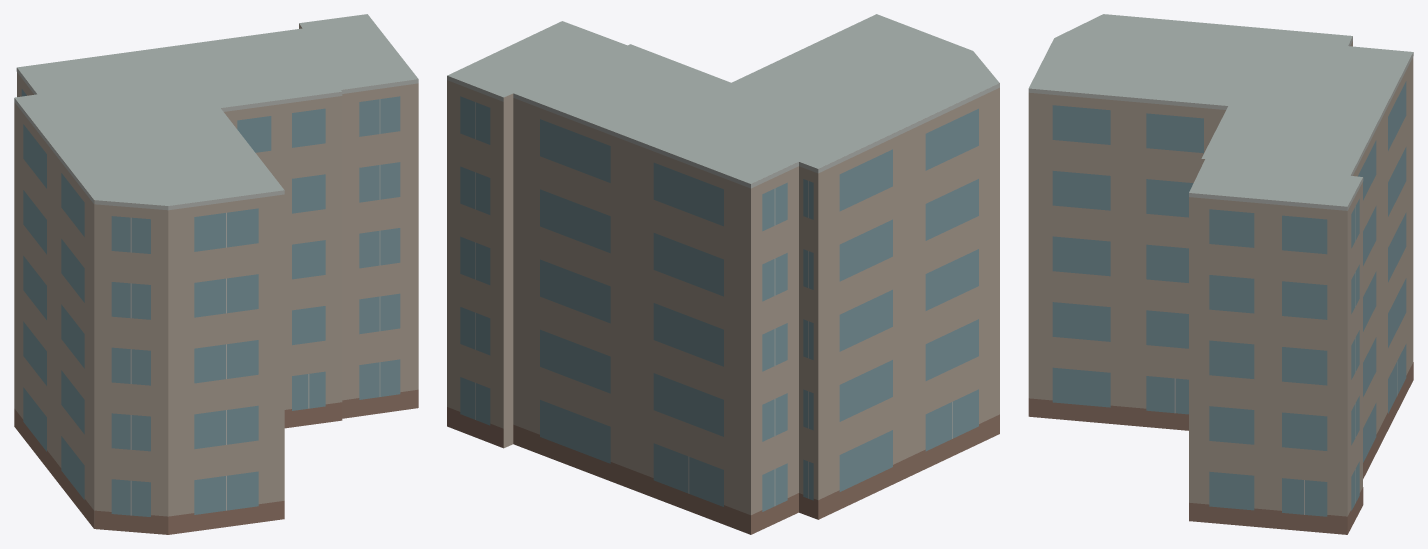
The model's file is survey-upis-32810190.glb.
3 views of the same model, side by side, from view 1: azimuth 30°, elevation 25°; view 2: azimuth 150°, elevation 25°; view 3: azimuth 270°, elevation 25° (orthographic). The views are drawn at different scales.
Visible parts, largest first — view 1: survey-upis-32810190.tmp; view 2: survey-upis-32810190.tmp; view 3: survey-upis-32810190.tmp.
Part boxes in pixels (bbox=[...]): survey-upis-32810190.tmp: bbox=[14, 14, 418, 534]; survey-upis-32810190.tmp: bbox=[447, 14, 999, 534]; survey-upis-32810190.tmp: bbox=[1028, 14, 1413, 534].
Size of the model in its own units: 24.08 by 19.11 by 20.32.
